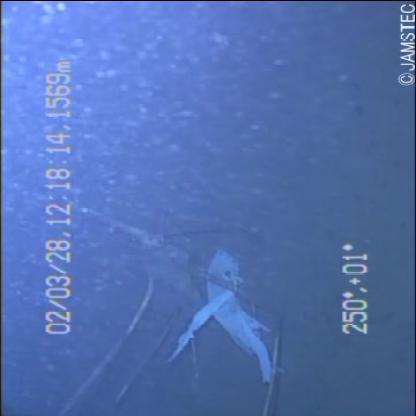Rác: (138, 237, 300, 379)
